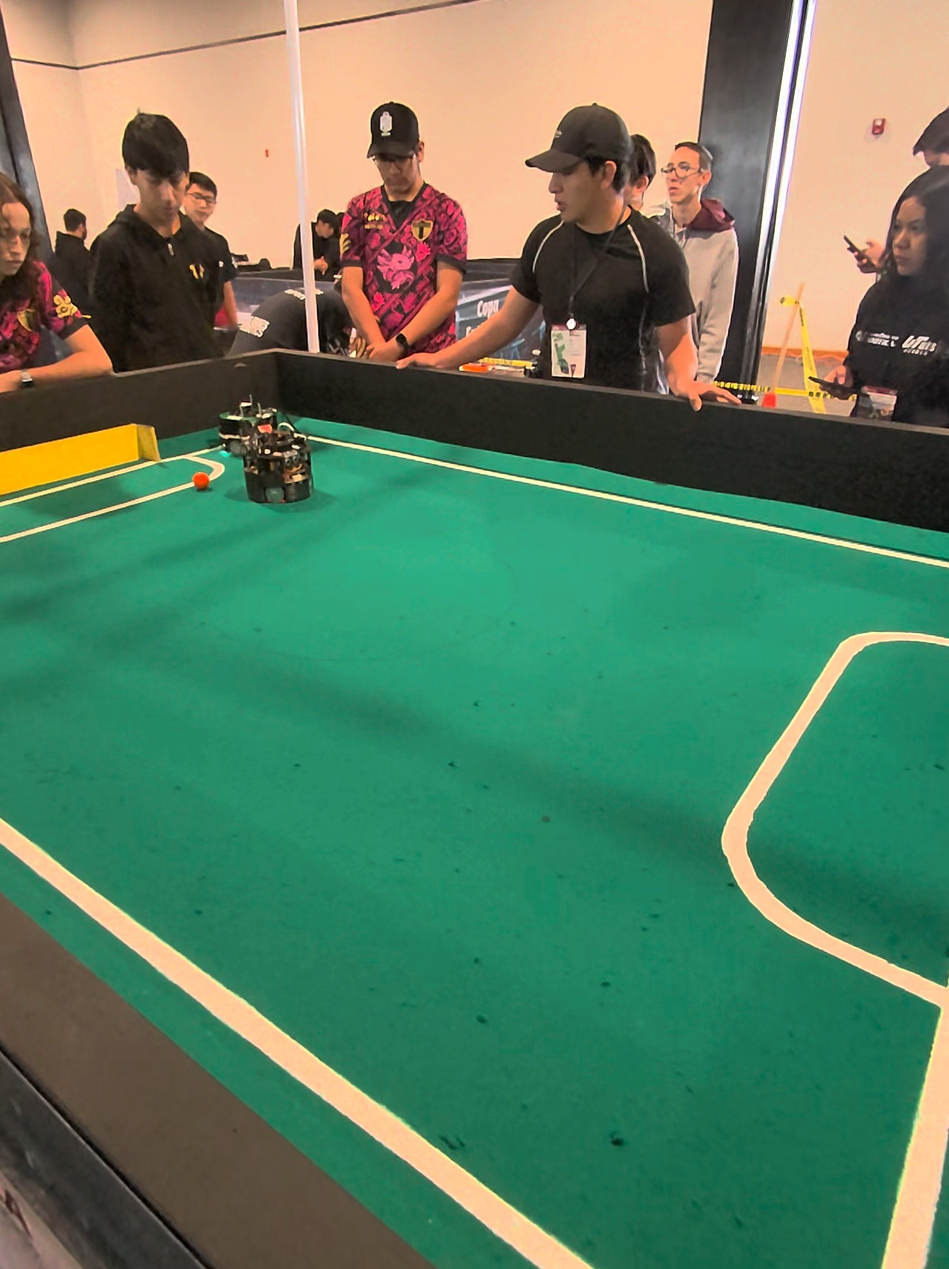Robot: (240, 408, 318, 511)
pelota: (191, 470, 214, 492)
